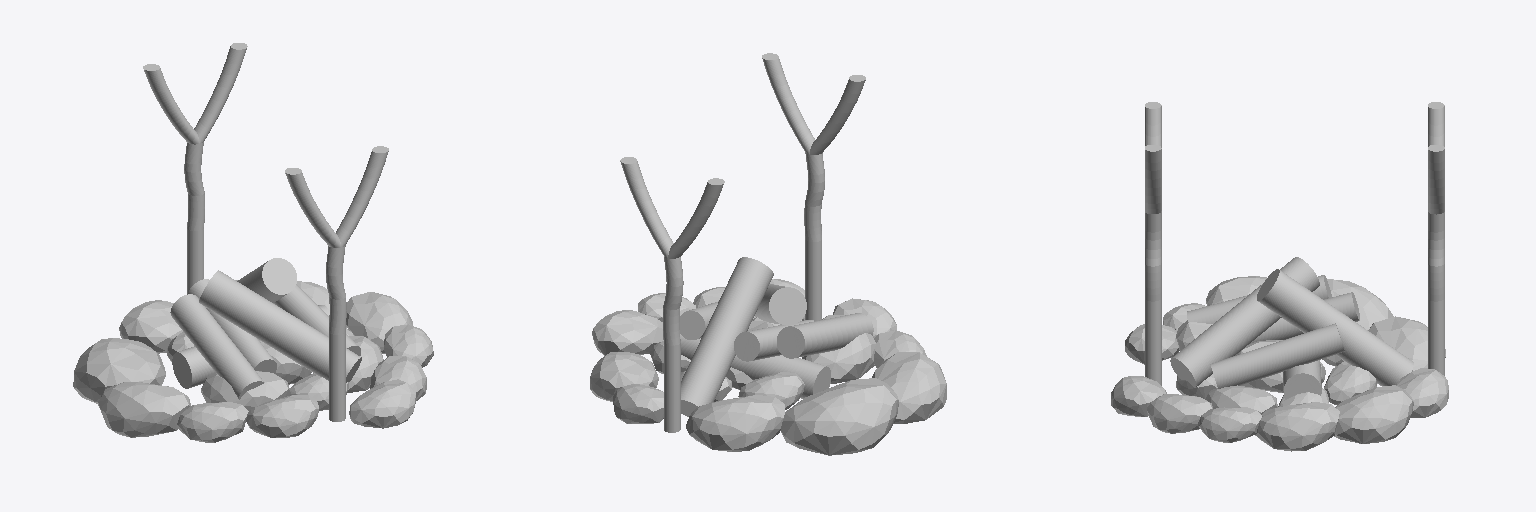
The model's file is Campfire.obj.
3 views of the same model, side by side, from view 1: azimuth 30°, elevation 25°; view 2: azimuth 150°, elevation 25°; view 3: azimuth 270°, elevation 25° (orthographic).
Parts seen in each view (by area): view 1: Stones, Log, branch, Coal; view 2: Stones, Log, branch, Coal; view 3: Stones, Log, branch, Coal.
Boxes of the visible parts, <box> form: Stones: <box>73,280,433,442</box>; Log: <box>170,258,361,399</box>; branch: <box>143,43,388,421</box>; Coal: <box>167,328,383,413</box>; Stones: <box>590,279,946,455</box>; Log: <box>680,257,873,416</box>; branch: <box>620,53,865,432</box>; Coal: <box>650,315,875,409</box>; Stones: <box>1111,276,1448,451</box>; Log: <box>1170,257,1413,398</box>; branch: <box>1145,102,1444,385</box>; Coal: <box>1176,320,1376,413</box>.
Size of the model in its own units: 1.28 by 1.05 by 1.17.